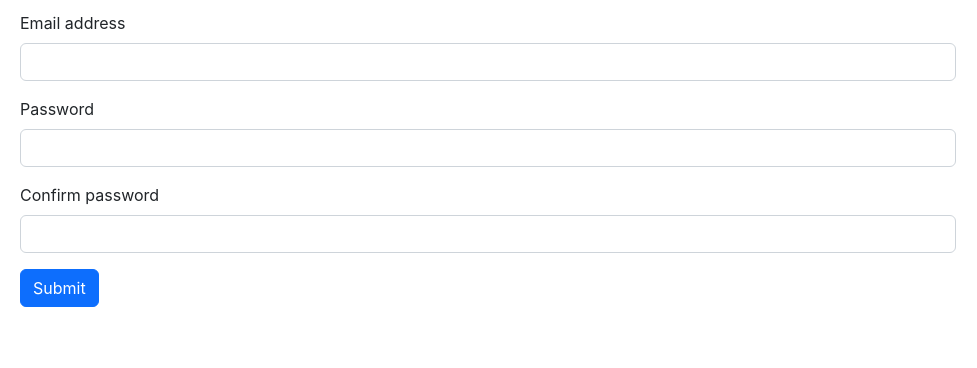
Test: Form tests › Show error if input is incorrect › should show confirm password error message if password don't match
Expected: the text "passwords don't match each other" is not shown
Type "selena@gmail.com" into the field labelled "Email address" at [488, 62], box [20, 43, 956, 81]
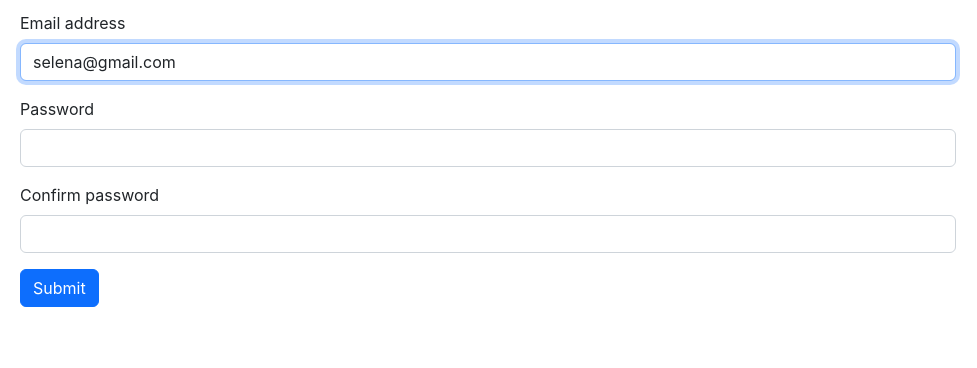
Type "password" into the password field labelled "Password" at [488, 148], box [20, 129, 956, 167]
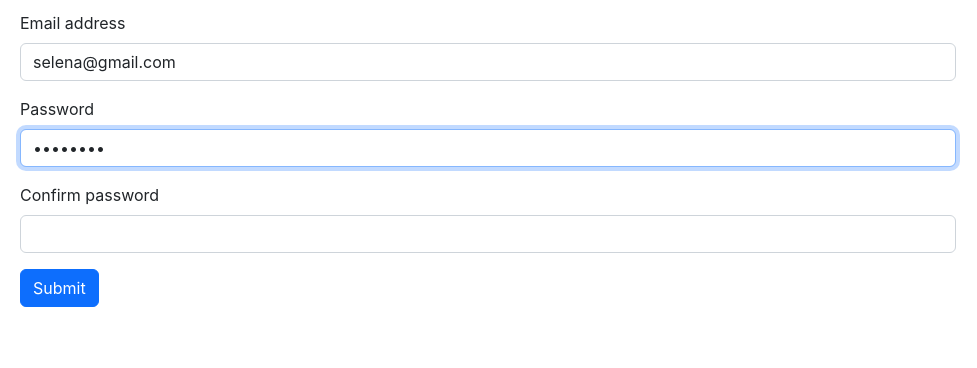
Type "123456" into the password field labelled "Confirm password" at [488, 234], box [20, 215, 956, 253]
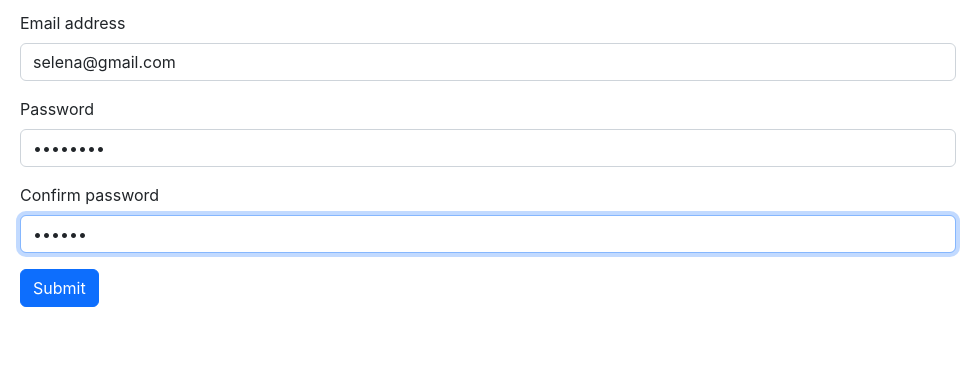
Click the button "Submit" at [59, 288], box [20, 269, 99, 307]
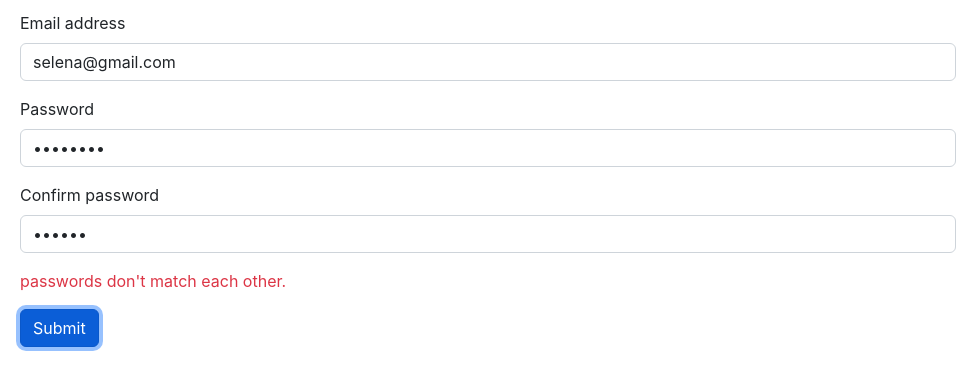
Now the text "passwords don't match each other." is shown, box [20, 271, 286, 291]
